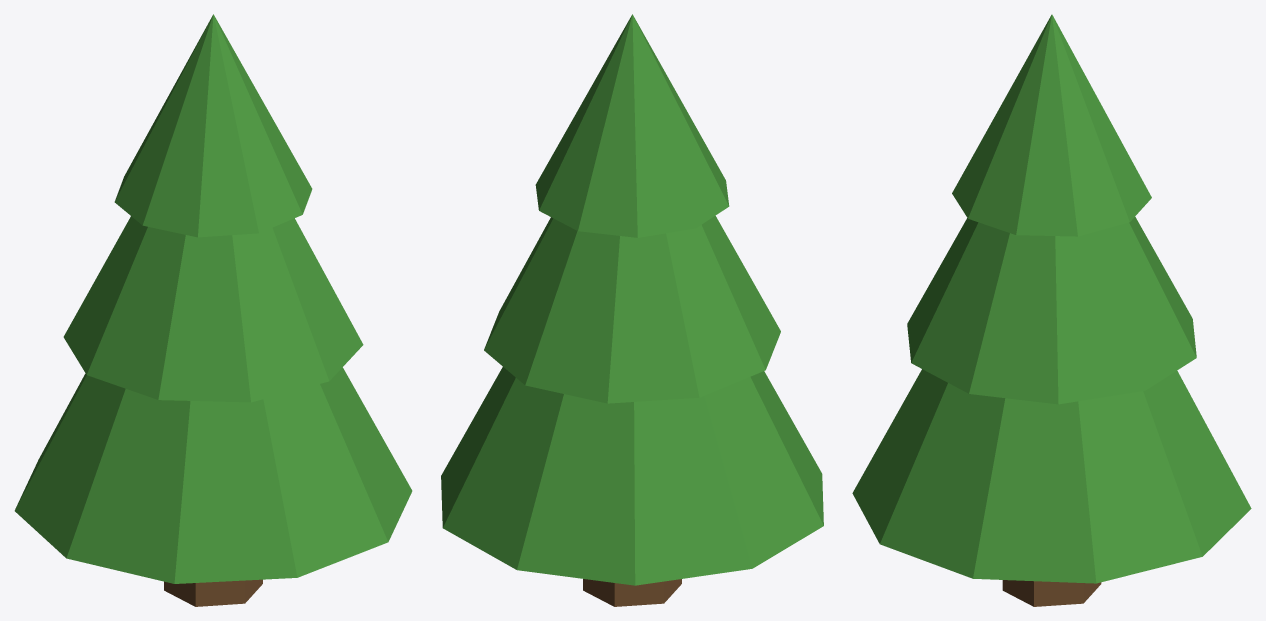
Rendered from dennenboom.dae.
3 views of the same model, side by side, from view 1: azimuth 30°, elevation 25°; view 2: azimuth 150°, elevation 25°; view 3: azimuth 270°, elevation 25° (orthographic).
Visible parts, largest first — view 1: Cylinder_001; view 2: Cylinder_001; view 3: Cylinder_001.
Boxes of the visible parts, x1=… form: Cylinder_001: x1=14, y1=14, x2=412, y2=606; Cylinder_001: x1=441, y1=14, x2=823, y2=606; Cylinder_001: x1=852, y1=14, x2=1251, y2=606.
Size of the model in its own units: 1.71 by 1.74 by 2.76.
